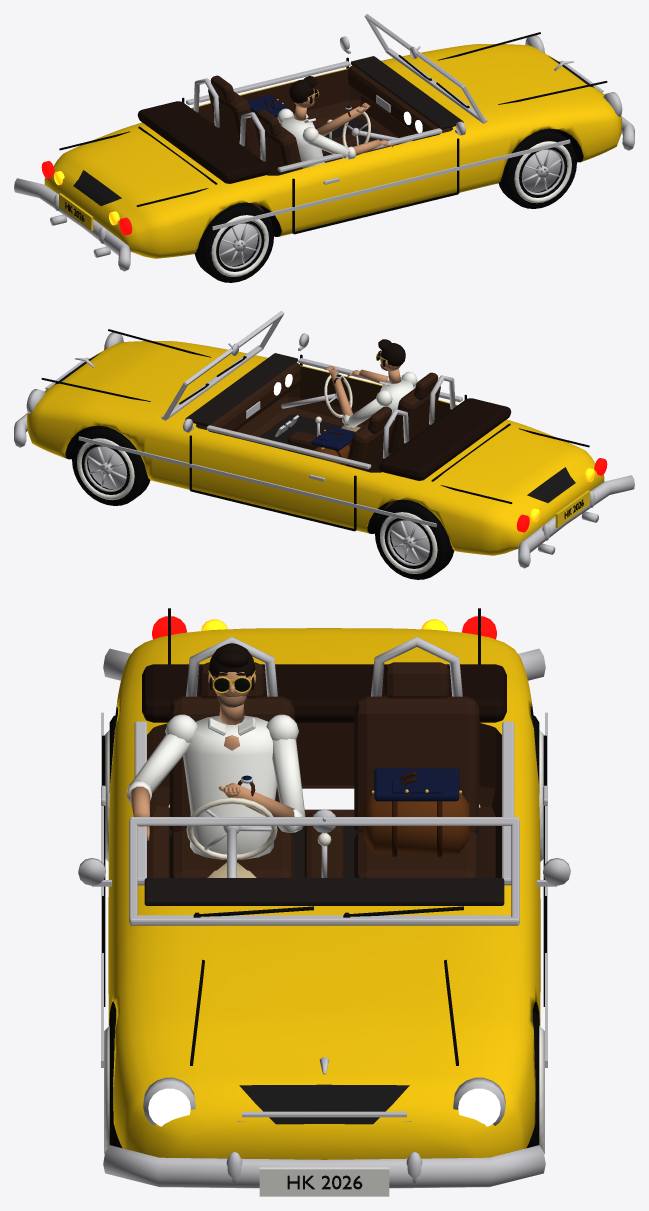
Rendered from yellow.glb.
3 renders of one model, top to bottom at view 1: azimuth 30°, elevation 25°; view 2: azimuth 150°, elevation 25°; view 3: azimuth 270°, elevation 25°, orthographic. The views are drawn at different scales.
Parts seen in each view (by area): view 1: body, tonneau, w_tyre.003, w_tyre.001, dashtop, dash, sidetrim.001, bumper.001, back, back.001, w_barrel.001, w_barrel.003 (+17 smaller); view 2: body, tonneau, w_tyre.002, w_tyre, dashtop, dash, sidetrim, bumper.001, back.001, back, doorcap, floor (+19 smaller); view 3: body, back, dashtop, bumper, tonneau, torso, framebase, duffel, seat, plate, frametop, back.001 (+23 smaller).
Part boxes in pixels (x1=…): body: x1=44, y1=44, x2=621, y2=258; tonneau: x1=137, y1=101, x2=269, y2=183; w_tyre.003: x1=194, y1=202, x2=273, y2=282; w_tyre.001: x1=498, y1=128, x2=576, y2=208; dashtop: x1=351, y1=56, x2=463, y2=129; dash: x1=348, y1=65, x2=452, y2=138; sidetrim.001: x1=212, y1=139, x2=570, y2=230; bumper.001: x1=14, y1=178, x2=130, y2=271; back: x1=208, y1=89, x2=260, y2=156; back.001: x1=254, y1=123, x2=302, y2=175; w_barrel.001: x1=522, y1=149, x2=560, y2=192; w_barrel.003: x1=219, y1=223, x2=257, y2=266; body: x1=27, y1=341, x2=604, y2=555; tonneau: x1=379, y1=398, x2=511, y2=480; w_tyre.002: x1=375, y1=499, x2=454, y2=579; w_tyre: x1=72, y1=425, x2=150, y2=505; dashtop: x1=185, y1=353, x2=297, y2=426; dash: x1=196, y1=362, x2=300, y2=435; sidetrim: x1=78, y1=436, x2=436, y2=527; bumper.001: x1=518, y1=475, x2=634, y2=568; back.001: x1=388, y1=386, x2=440, y2=453; back: x1=346, y1=420, x2=394, y2=472; doorcap: x1=206, y1=425, x2=371, y2=469; floor: x1=253, y1=414, x2=391, y2=520; body: x1=108, y1=628, x2=540, y2=1159; back: x1=354, y1=696, x2=479, y2=833; dashtop: x1=144, y1=878, x2=504, y2=905; bumper: x1=103, y1=1145, x2=545, y2=1188; tonneau: x1=142, y1=664, x2=506, y2=722; torso: x1=183, y1=715, x2=276, y2=859; framebase: x1=129, y1=915, x2=519, y2=925; duffel: x1=364, y1=793, x2=469, y2=853; seat: x1=354, y1=831, x2=479, y2=877; plate: x1=259, y1=1167, x2=389, y2=1196; frametop: x1=129, y1=817, x2=519, y2=825; back.001: x1=169, y1=696, x2=294, y2=833.
Bounding box in the file's own units: 4.93 × 1.4 × 1.97.
